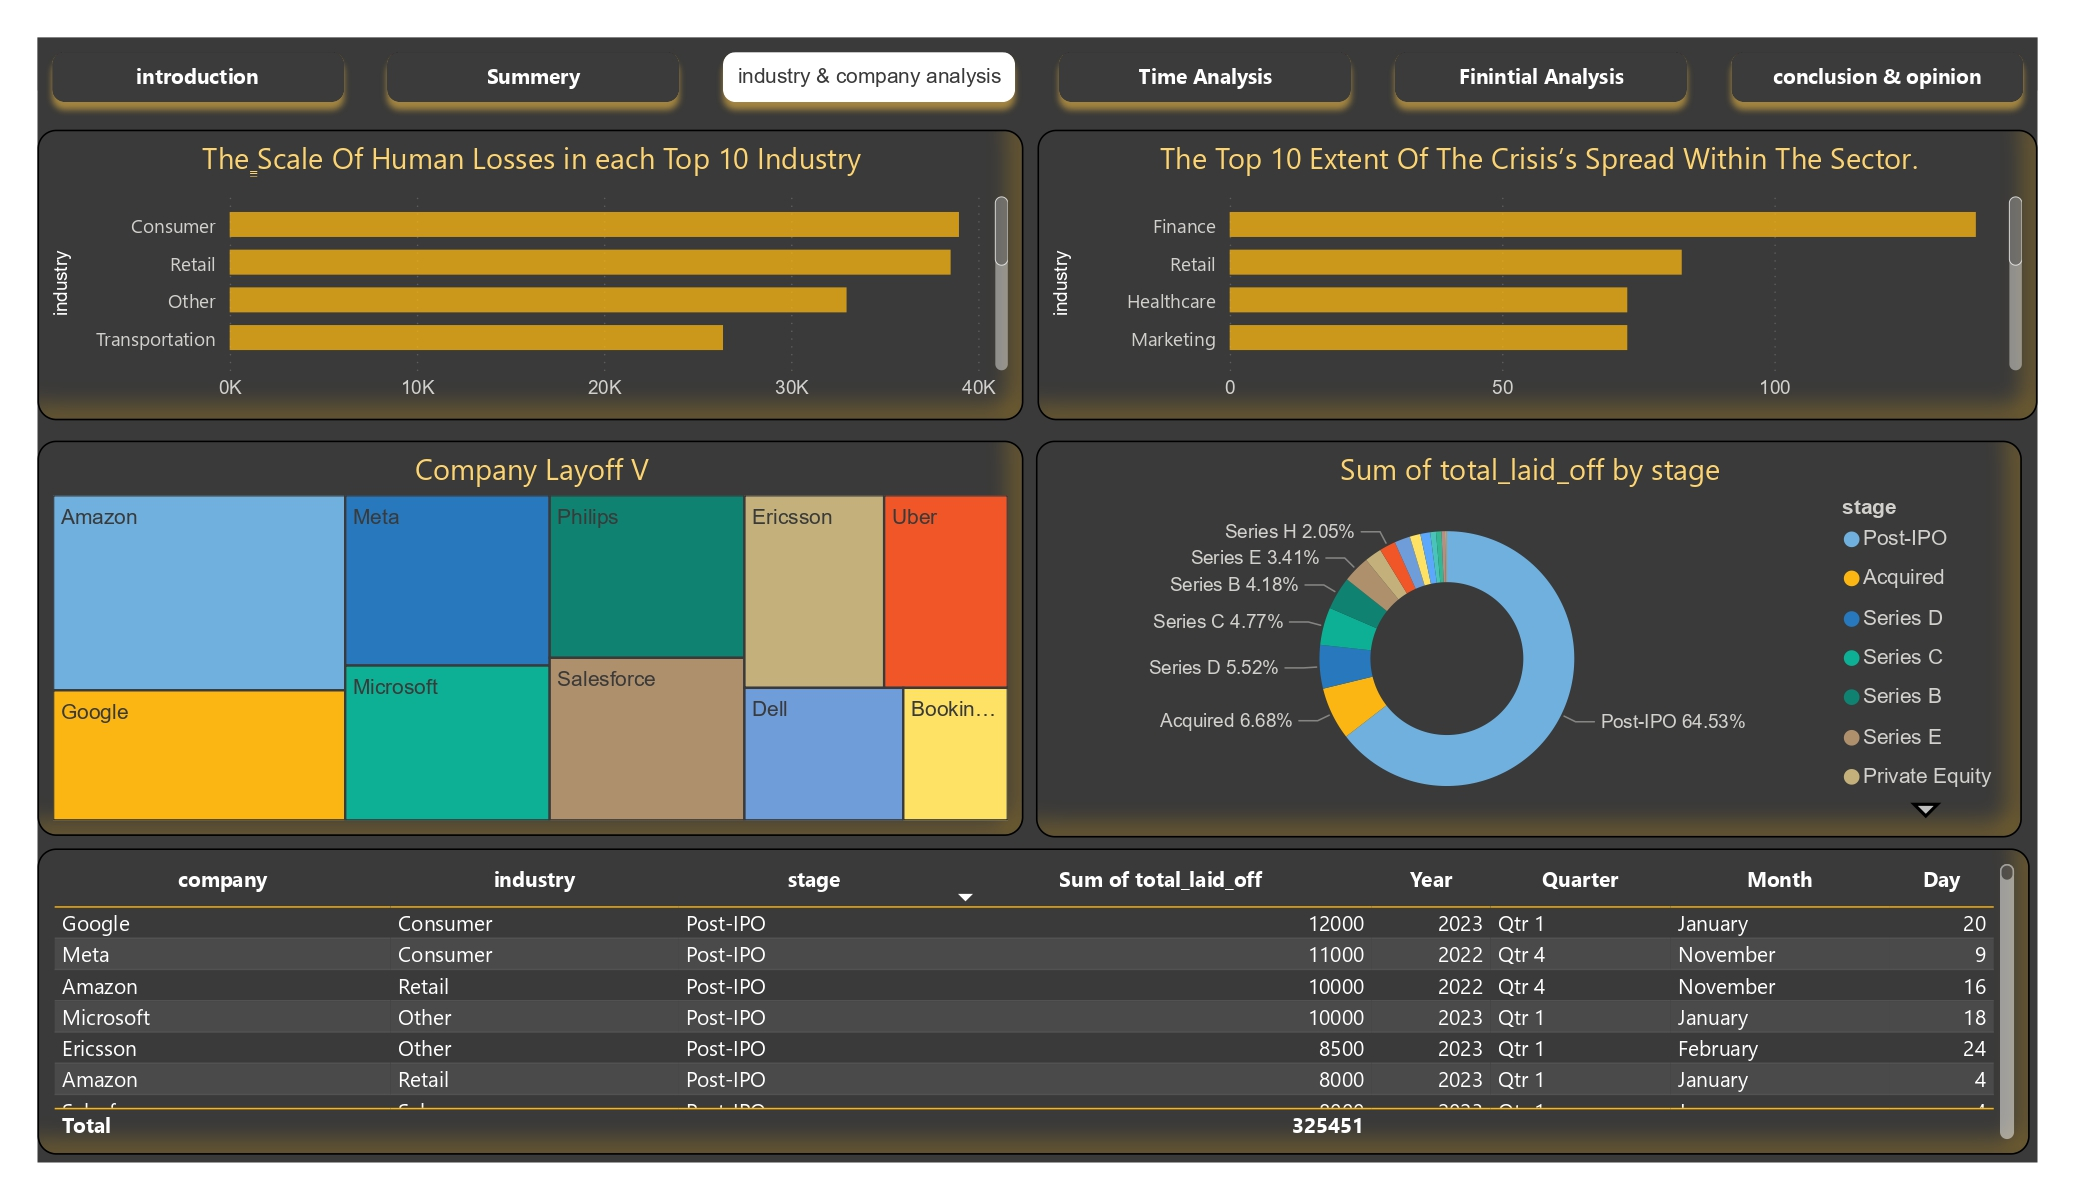

What the dashboard file says about the page in this screenshot:
{"tool":"powerbi","page":{"name":"industry & company analysis","canvas":[1280,720],"ordinal":2},"visuals":[{"type":"clusteredBarChart","title":"The Top 10  Extent Of The Crisis’s Spread Within The Sector.","fields":{"Category":["layoffs.industry"],"Y":["Count(layoffs.company)"]},"box":[640,59,640,185.8],"z":0},{"type":"clusteredBarChart","title":"The ٍٍScale Of Human Losses in each Top 10 Industry","fields":{"Y":["Sum(layoffs.total_laid_off)"],"Category":["layoffs.industry"]},"box":[0,59,631.2,185.8],"z":1000},{"type":"donutChart","fields":{"Category":["layoffs.stage"],"Y":["Sum(layoffs.total_laid_off)"]},"box":[639,257.6,631.2,254.6],"z":2000},{"type":"treemap","title":"Company Layoff V","fields":{"Group":["layoffs.company"],"Values":["Sum(layoffs.total_laid_off)"]},"box":[0,257.6,631.2,253.6],"z":3000},{"type":"tableEx","fields":{"Values":["layoffs.company","layoffs.industry","layoffs.stage","Sum(layoffs.total_laid_off)","layoffs.date.Variation.Date Hierarchy.Year","layoffs.date.Variation.Date Hierarchy.Quarter","layoffs.date.Variation.Date Hierarchy.Month","layoffs.date.Variation.Date Hierarchy.Day"]},"box":[0,519.1,1275.1,195.6],"z":4000},{"type":"pageNavigator","box":[0,0,1280,49.8],"z":5000}]}

Visuals, with their boxes in screenshot pixels (x1, y1, x2, y2):
"The Top 10  Extent Of The Crisis’s Spread Within The Sector." clusteredBarChart: {"left": 1038, "top": 130, "right": 2038, "bottom": 420}
"The ٍٍScale Of Human Losses in each Top 10 Industry" clusteredBarChart: {"left": 38, "top": 130, "right": 1024, "bottom": 420}
donutChart - layoffs.stage x Sum(layoffs.total_laid_off): {"left": 1036, "top": 440, "right": 2022, "bottom": 838}
"Company Layoff V" treemap: {"left": 38, "top": 440, "right": 1024, "bottom": 836}
tableEx - layoffs.company x layoffs.industry: {"left": 38, "top": 849, "right": 2030, "bottom": 1154}
pageNavigator: {"left": 38, "top": 38, "right": 2038, "bottom": 115}
